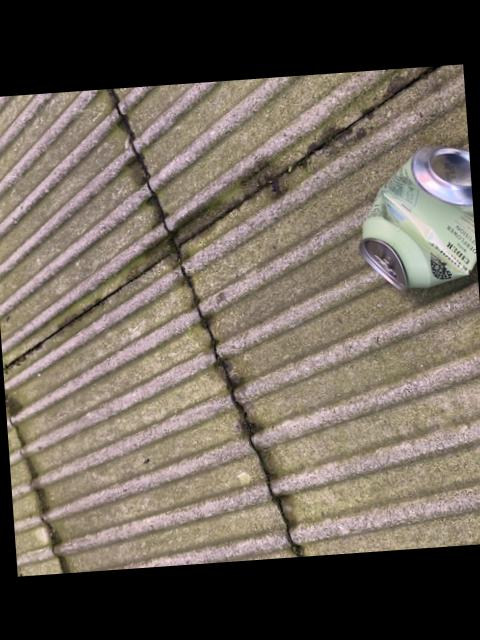metal: (357, 148, 476, 292)
